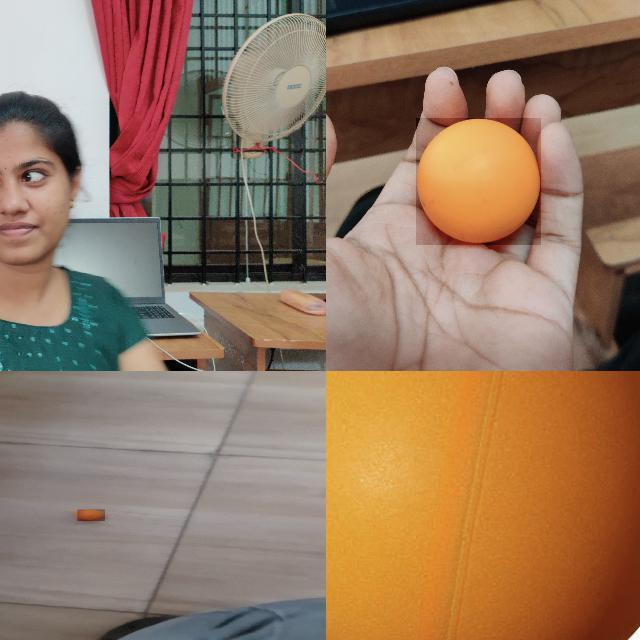ping-pong-ball: (326, 371, 639, 639), (416, 118, 542, 246), (77, 509, 106, 521)
